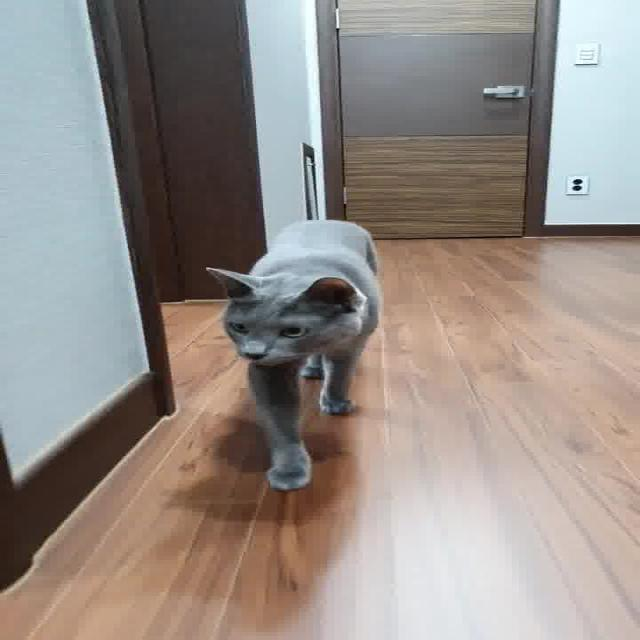cat: (182, 195, 431, 500)
